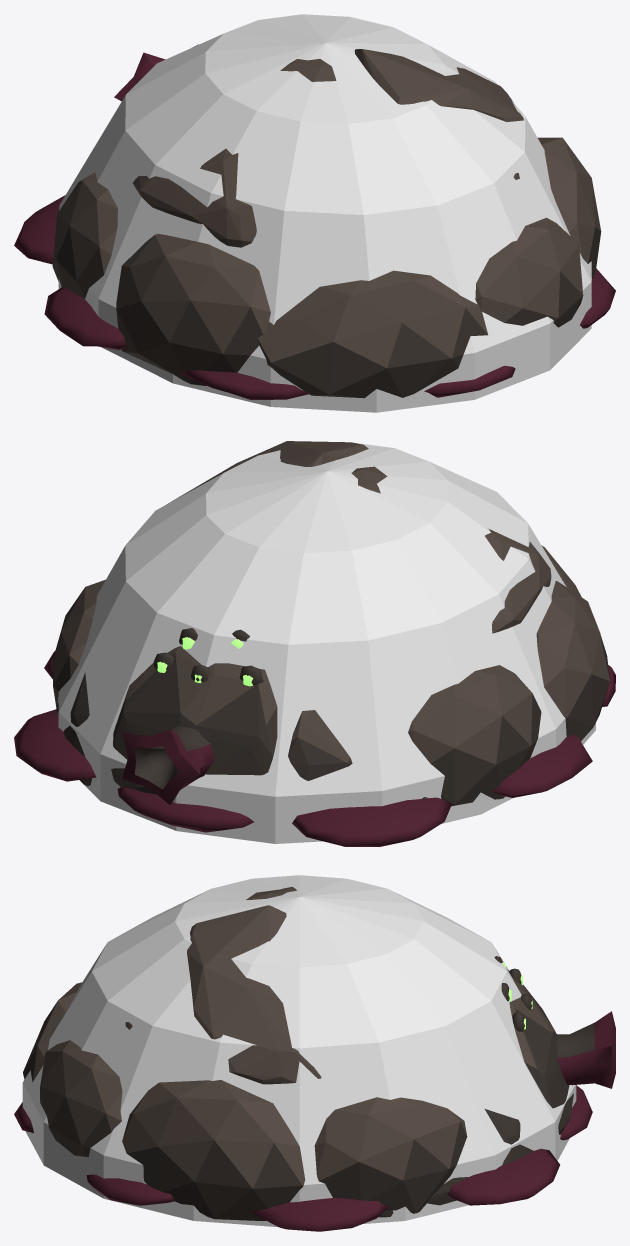
File: limpet.glb
The picture shows the model from 3 angles, top to bottom: view 1: azimuth 30°, elevation 25°; view 2: azimuth 150°, elevation 25°; view 3: azimuth 270°, elevation 25°; orthographic projection. The views are drawn at different scales.
Visible parts, largest first — view 1: COL_body, shell, plate_l, plate_r, skirt_6, skirt_5, skirt_7, skirt_4, skirt_3, snout; view 2: COL_body, shell, skirt_7, snout, skirt_1, plate_l, skirt_6, skirt_0, plate_r; view 3: COL_body, shell, plate_r, skirt_1, snout, skirt_2, skirt_3, skirt_0.
Part boxes in pixels (<box>): COL_body: <box>58,14,591,412</box>; shell: <box>52,44,601,398</box>; plate_l: <box>133,59,336,247</box>; plate_r: <box>354,49,523,121</box>; skirt_6: <box>44,287,126,349</box>; skirt_5: <box>182,370,309,399</box>; skirt_7: <box>14,195,65,264</box>; skirt_4: <box>424,365,515,397</box>; skirt_3: <box>580,268,615,328</box>; snout: <box>114,52,165,101</box>; COL_body: <box>58,443,595,843</box>; shell: <box>52,545,609,806</box>; skirt_7: <box>292,797,451,846</box>; snout: <box>122,726,214,805</box>; skirt_1: <box>14,709,96,781</box>; plate_l: <box>351,466,551,633</box>; skirt_6: <box>492,735,592,797</box>; skirt_0: <box>117,787,253,832</box>; plate_r: <box>168,441,368,503</box>; COL_body: <box>22,875,576,1227</box>; shell: <box>23,956,573,1220</box>; plate_r: <box>187,905,321,1084</box>; skirt_1: <box>447,1148,559,1205</box>; snout: <box>557,1011,615,1088</box>; skirt_2: <box>253,1198,389,1231</box>; skirt_3: <box>86,1174,175,1205</box>; skirt_0: <box>560,1085,592,1140</box>.
Bounding box in the file's own units: 0.8049 × 0.3717 × 0.8807.
